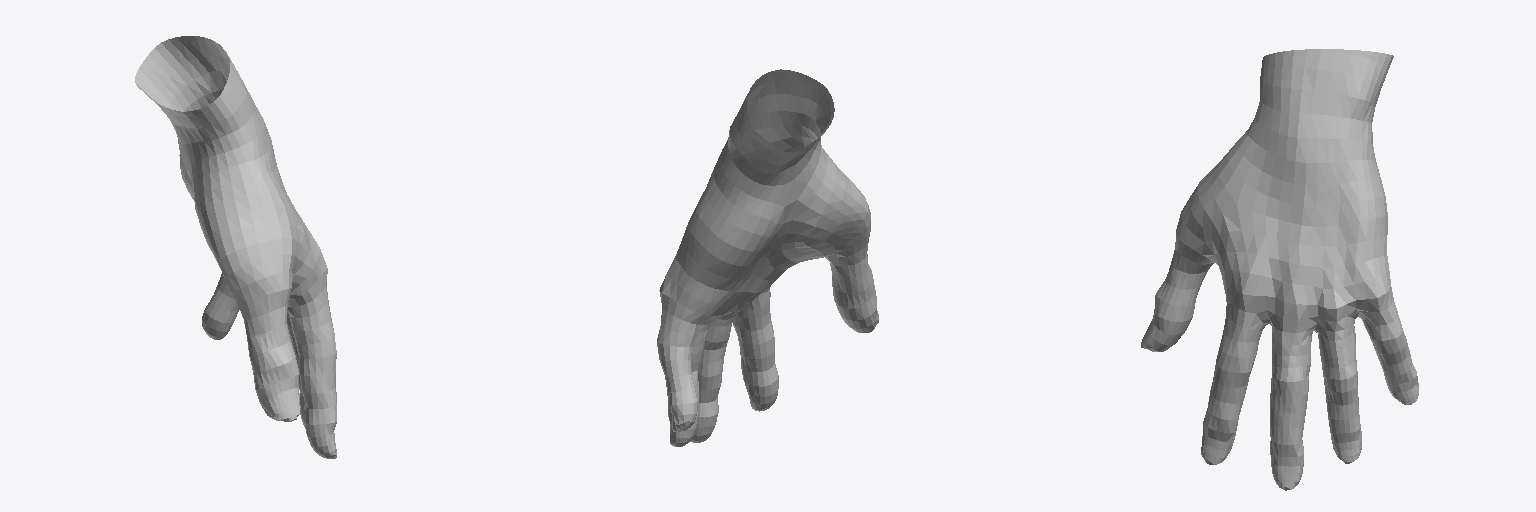
Rendered from palmaS.obj.
The picture shows the model from 3 angles: view 1: azimuth 30°, elevation 25°; view 2: azimuth 150°, elevation 25°; view 3: azimuth 270°, elevation 25°; orthographic projection.
Parts seen in each view (by area): view 1: palmaS; view 2: palmaS; view 3: palmaS.
Boxes of the visible parts, x1=… form: palmaS: x1=135, y1=36, x2=336, y2=458; palmaS: x1=657, y1=69, x2=878, y2=446; palmaS: x1=1141, y1=49, x2=1418, y2=490.
Size of the model in its own units: 1.15 by 2.9 by 1.84.